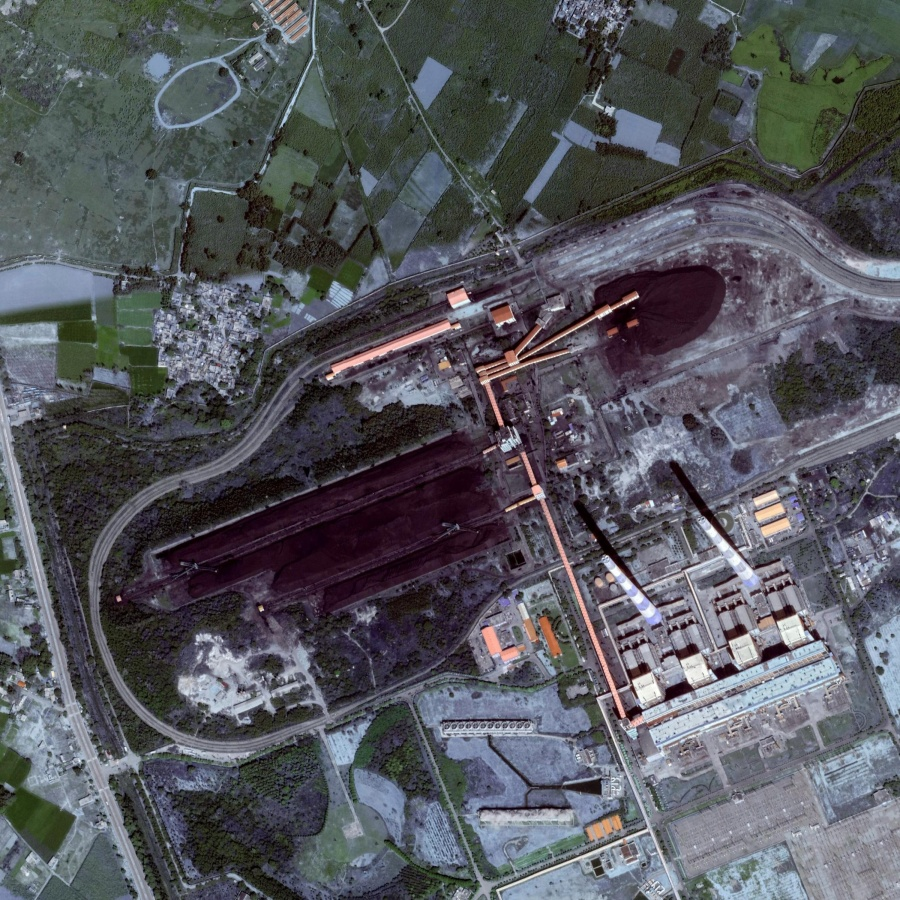PowerPlant: (112, 230, 721, 739), (563, 453, 800, 658)
